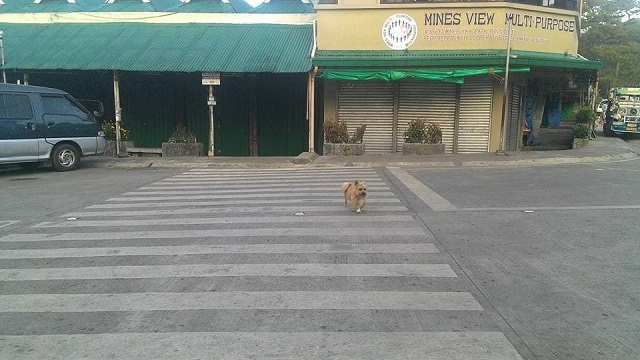car: (1, 86, 107, 174)
dog: (342, 177, 366, 213)
pedestrian lane: (4, 166, 522, 360)
plant: (400, 118, 445, 154), (322, 119, 366, 153), (571, 107, 593, 145)
